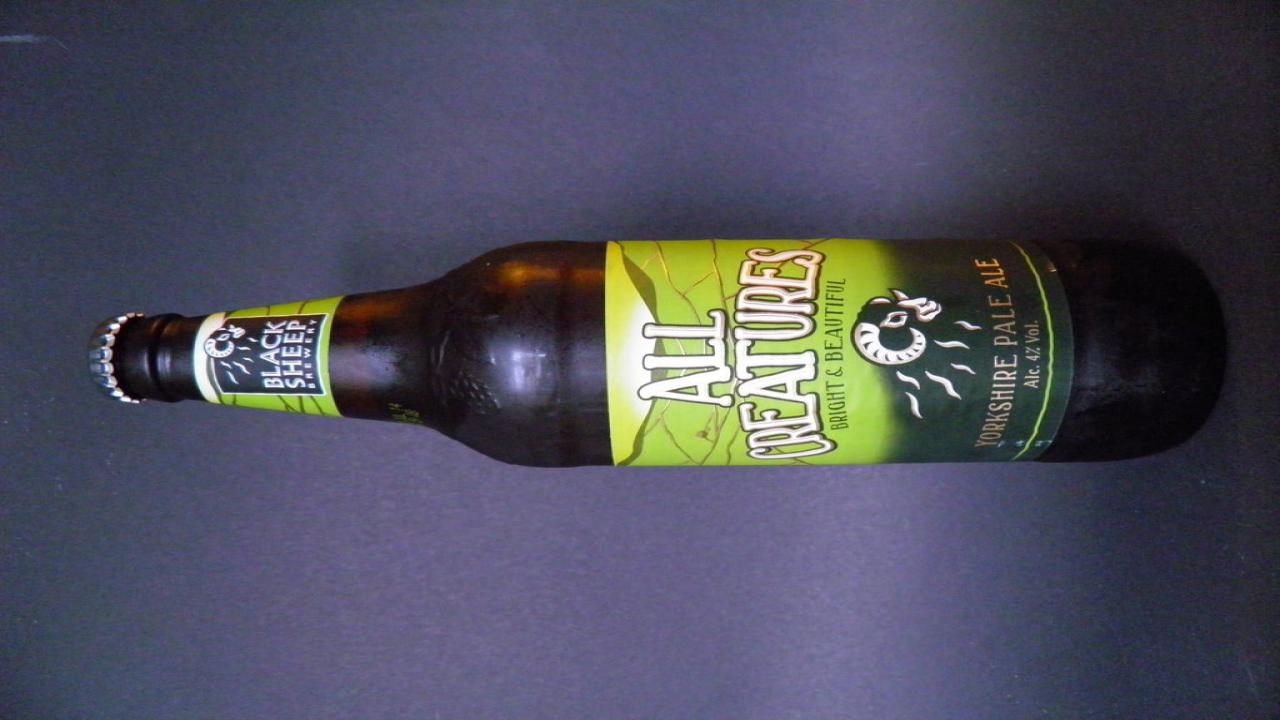bottle_cap: (87, 312, 146, 410)
